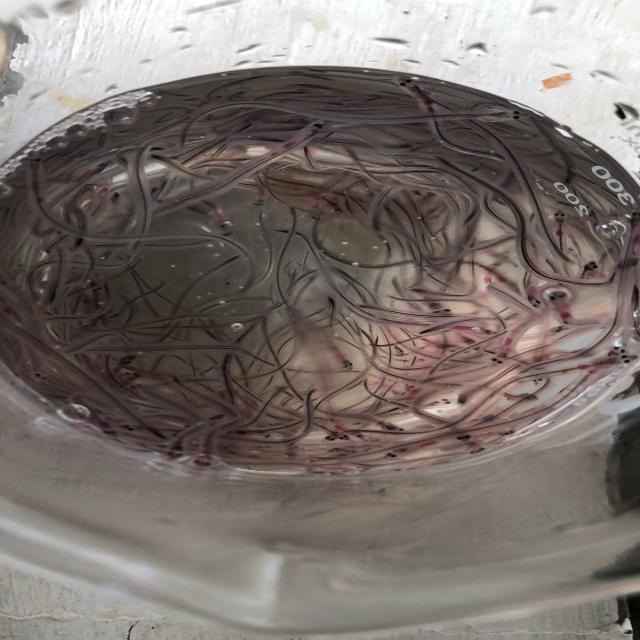glass_eel: (537, 290, 576, 306), (160, 446, 190, 464), (602, 344, 631, 362), (602, 352, 639, 366), (303, 117, 331, 135), (545, 321, 577, 336), (426, 301, 454, 318), (188, 456, 222, 470), (387, 73, 416, 89), (480, 354, 508, 370), (24, 148, 46, 168), (521, 296, 547, 311), (113, 353, 142, 366), (504, 108, 530, 122), (92, 158, 118, 172), (529, 371, 550, 388), (581, 258, 605, 272), (513, 391, 539, 403), (553, 207, 571, 224), (477, 327, 504, 338), (468, 443, 488, 457), (118, 422, 145, 432), (338, 358, 358, 371), (453, 430, 473, 443), (28, 372, 50, 383), (101, 428, 121, 440), (108, 190, 126, 203), (216, 221, 233, 234), (382, 449, 402, 460), (226, 428, 253, 436), (406, 188, 427, 198), (438, 396, 459, 406), (381, 426, 407, 434), (497, 428, 519, 437), (626, 210, 640, 224), (250, 199, 268, 209), (144, 184, 159, 196), (334, 432, 352, 442), (116, 370, 138, 378), (128, 382, 145, 392), (401, 383, 419, 392), (321, 434, 337, 444), (393, 344, 407, 355), (328, 206, 346, 214), (325, 446, 343, 454), (221, 280, 236, 288), (341, 448, 358, 455), (353, 432, 366, 441), (268, 421, 285, 427), (261, 432, 273, 440), (288, 442, 299, 449)
